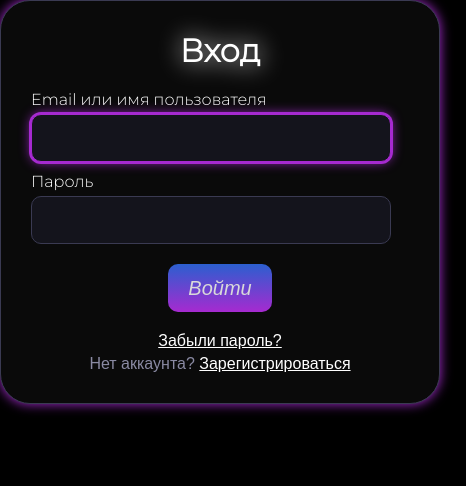
LoginForm › explains too many attempts
This screenshot has width=466, height=486.
In the field labelled "Email или имя пользователя": point(211, 138) [31,114,391,162], type "neo"
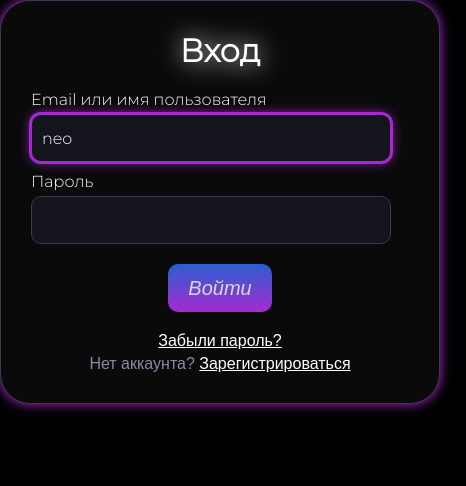
In the password field labelled "Пароль": point(211, 220) [31,196,391,244], type "x"
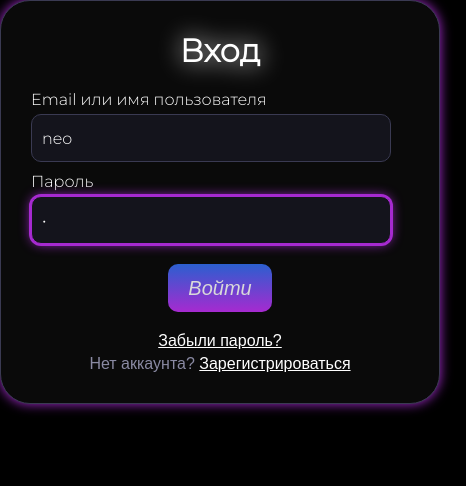
Click the button "Войти": point(220, 288) [168,264,272,312]
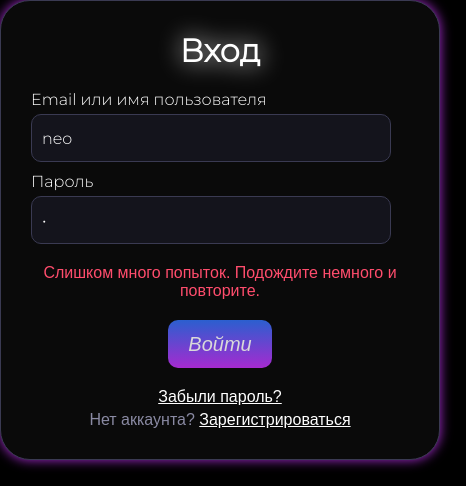
Expected: the message shows "Слишком много попыток", [43,264,397,299]
